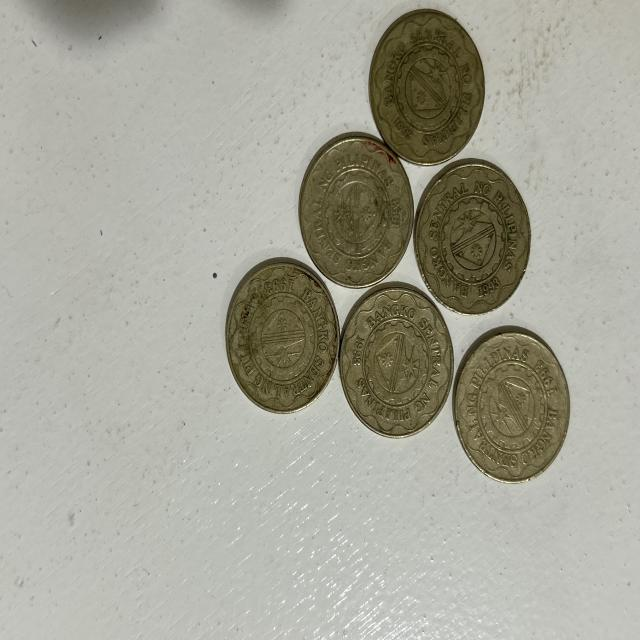5_Old_Back: (454, 330, 583, 492), (406, 151, 535, 306), (373, 3, 491, 165), (223, 260, 338, 408), (307, 140, 418, 286), (346, 287, 452, 427)
